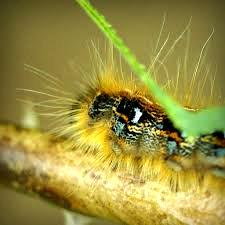Caterpillar: (50, 65, 225, 196)
